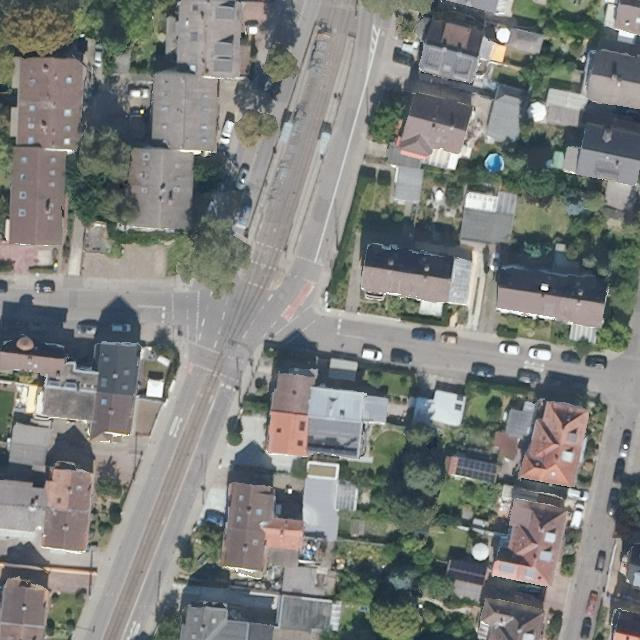PV: (452, 453, 503, 486)
